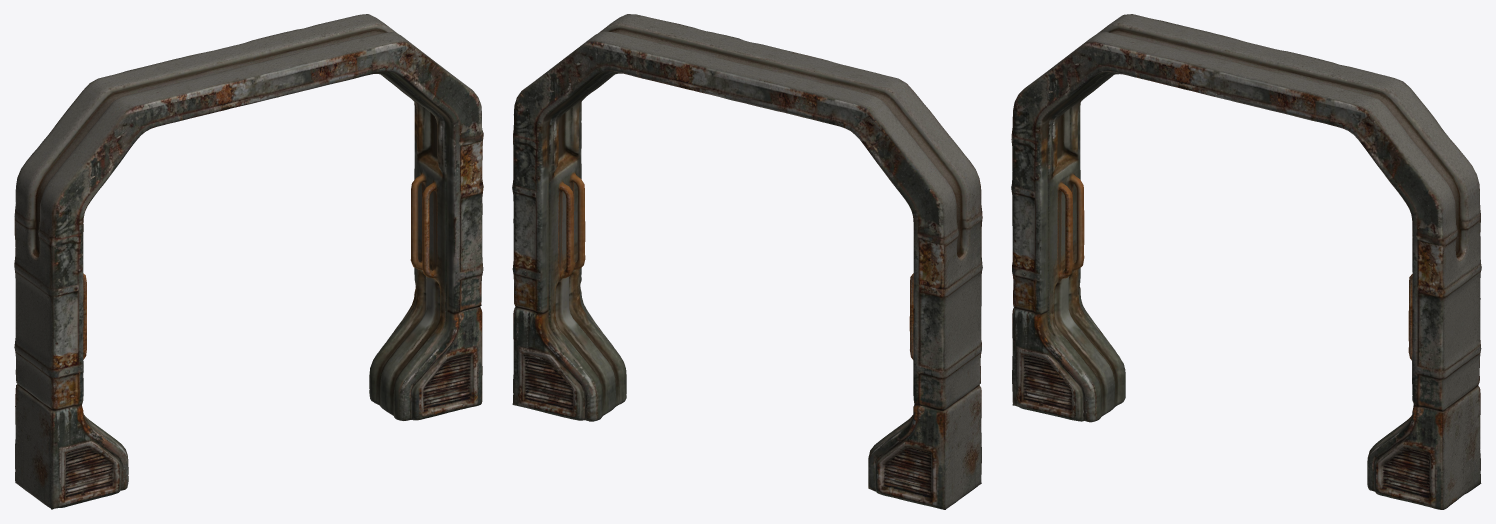
File: arch.glb
3 renders of one model, left to right at view 1: azimuth 30°, elevation 25°; view 2: azimuth 150°, elevation 25°; view 3: azimuth 330°, elevation 25°, orthographic.
Visible parts, largest first — view 1: tripo_node_5f8d047b-a9c1-4cdf-8d00-4db29f3215be; view 2: tripo_node_5f8d047b-a9c1-4cdf-8d00-4db29f3215be; view 3: tripo_node_5f8d047b-a9c1-4cdf-8d00-4db29f3215be.
Boxes of the visible parts, x1,y1,x2,y2 form: tripo_node_5f8d047b-a9c1-4cdf-8d00-4db29f3215be: (14,14,483,509); tripo_node_5f8d047b-a9c1-4cdf-8d00-4db29f3215be: (512,14,982,509); tripo_node_5f8d047b-a9c1-4cdf-8d00-4db29f3215be: (1011,14,1481,509).
Size of the model in its own units: 0.9797 by 0.829 by 0.1615.
Materials: 1 (1 with a texture image).
